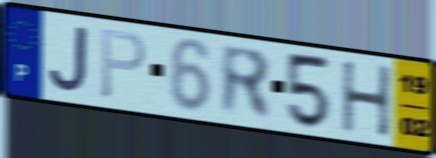5: (283, 50, 339, 132)
6: (166, 34, 214, 116)
H: (339, 60, 393, 140)
J: (46, 25, 90, 95)
P: (99, 26, 149, 102)
R: (218, 41, 275, 124)
